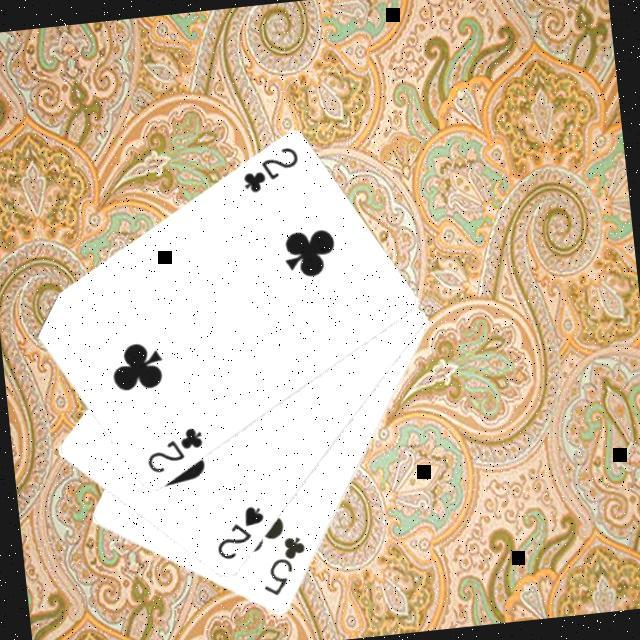2C: (138, 422, 207, 477), (235, 142, 304, 197)
2S: (208, 500, 270, 564)
5C: (254, 531, 312, 600)
